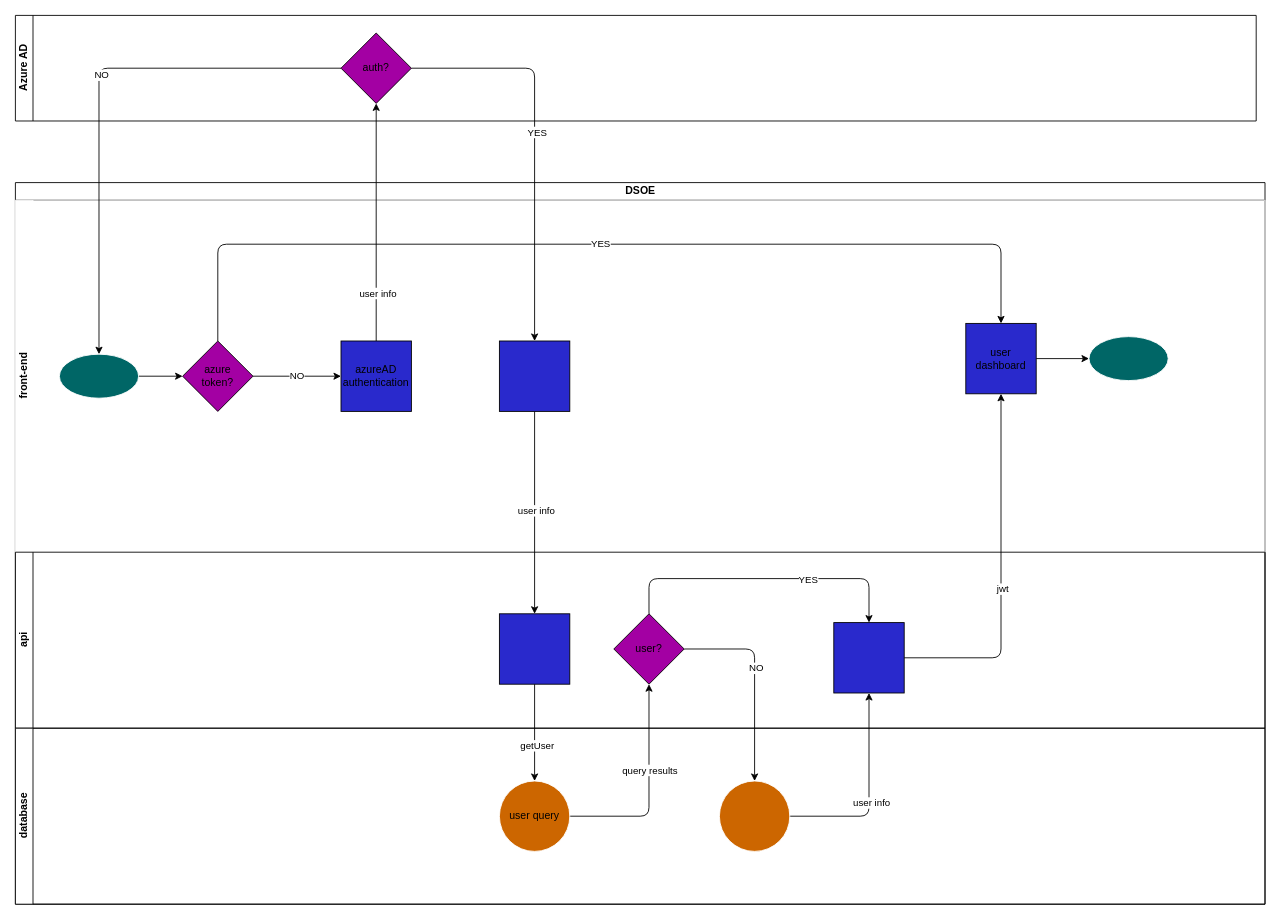
The diagram is 1280 pixels wide and 920 high, and some of its shapes have lost their labels. Here are the shapes that lost their labels. From the top down, the centre of each, then its label:
At point 99,375: "start".
At point 534,375: "DSOE registration".
At point 1128,358: "end".
At point 534,648: "check registration".
At point 868,657: "generate jwt".
At point 754,815: "register user".
